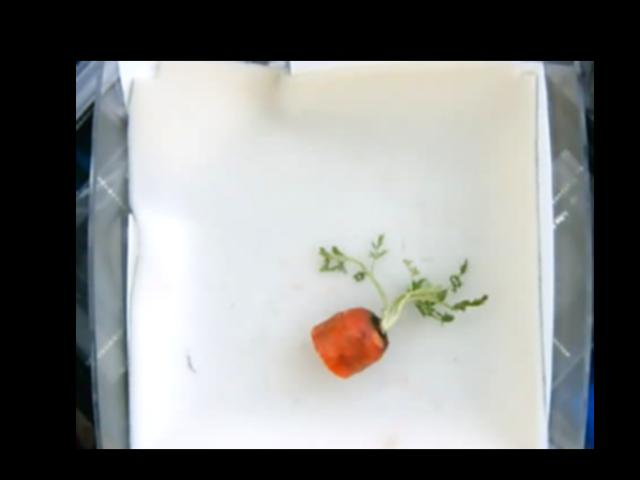Carrot: (312, 234, 487, 379)
